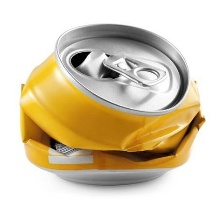can: (15, 17, 210, 191)
